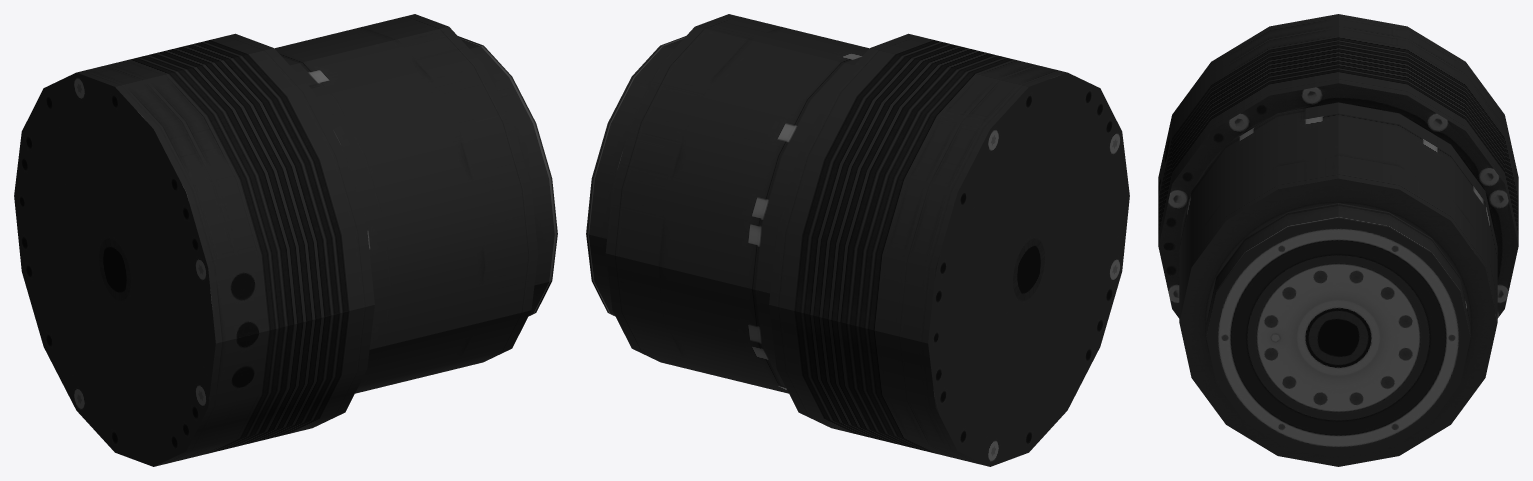
The model's file is drive.obj.
3 views of the same model, side by side, from view 1: azimuth 30°, elevation 25°; view 2: azimuth 150°, elevation 25°; view 3: azimuth 270°, elevation 25° (orthographic). The views are drawn at different scales.
Size of the model in its own units: 0.1148 by 0.1088 by 0.1088.
